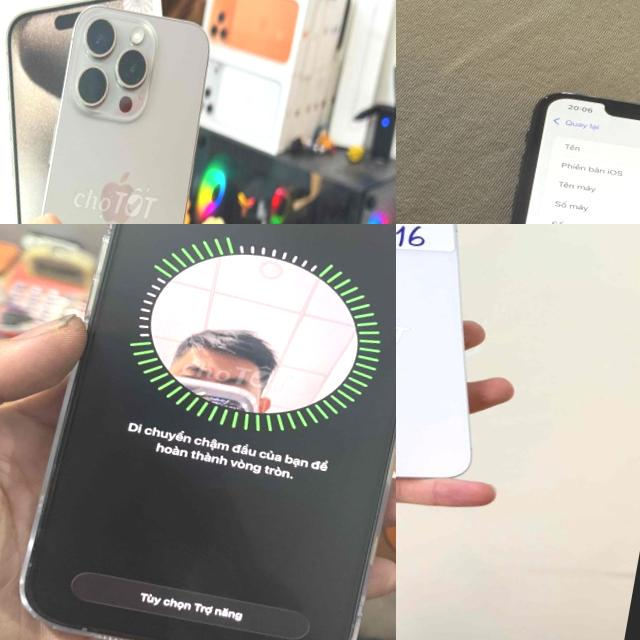gen_12_13: (5, 224, 396, 640)
gen_15: (0, 0, 229, 224)
gen_16: (396, 224, 526, 510)
gen_x_xs: (431, 71, 640, 224)
